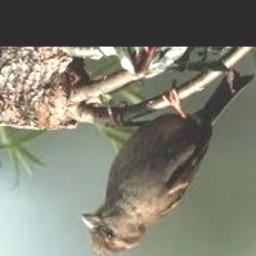Sparrow: (81, 69, 253, 256)
